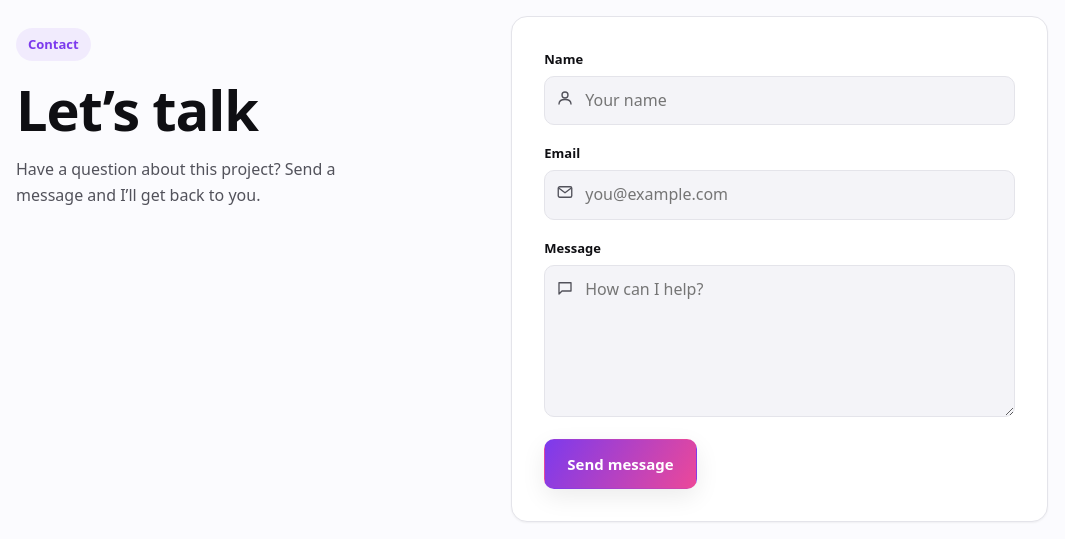
submits successfully and shows a success message with valid input
This screenshot has width=1065, height=539.
Step 1. Type "Aftab" into the field labelled "Name" → (780,101), box [544, 76, 1015, 125]
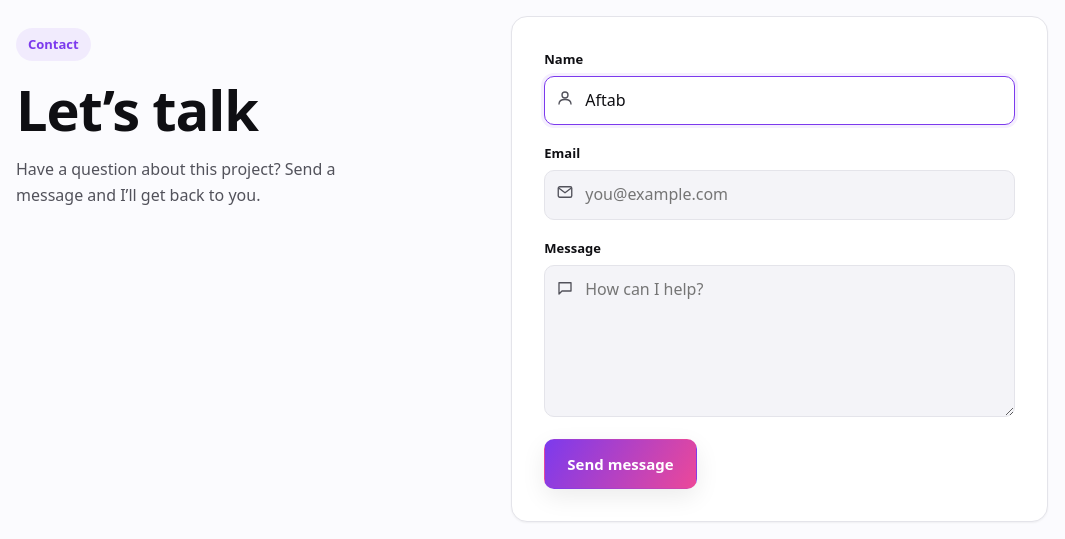
Step 2. Type "aftab@example.com" into the field labelled "Email" → (780,195), box [544, 170, 1015, 220]
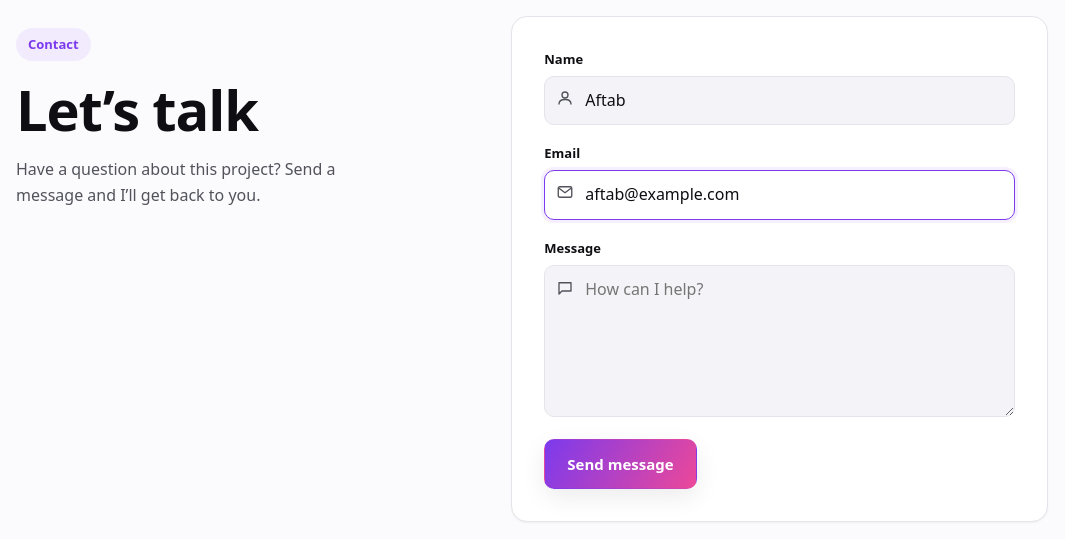
Step 3. Type "Hello there!" into the text box labelled "Message" → (780,341), box [544, 265, 1015, 417]
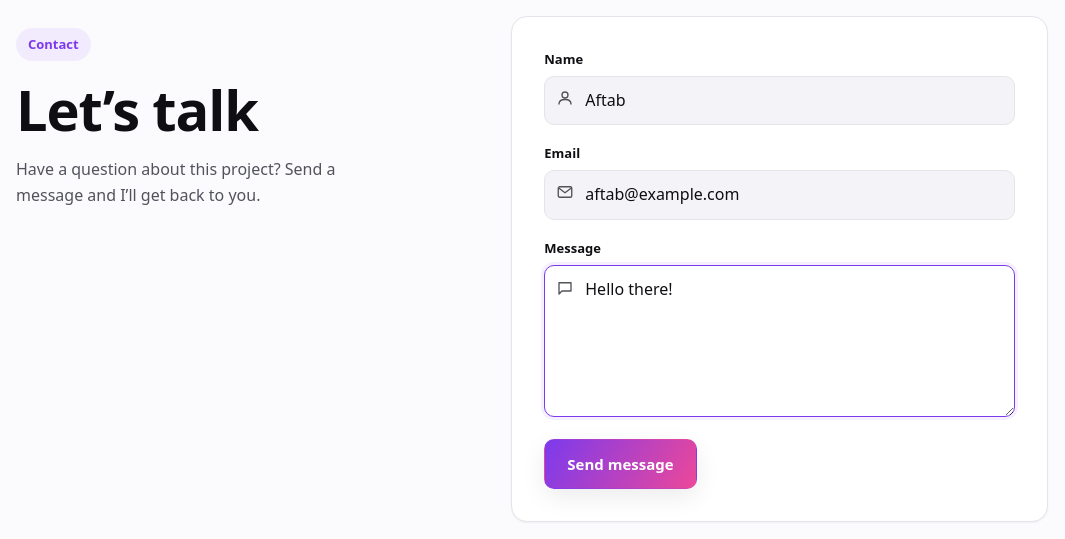
Step 4. Click the button "Send message" → (620,464), box [544, 438, 697, 488]
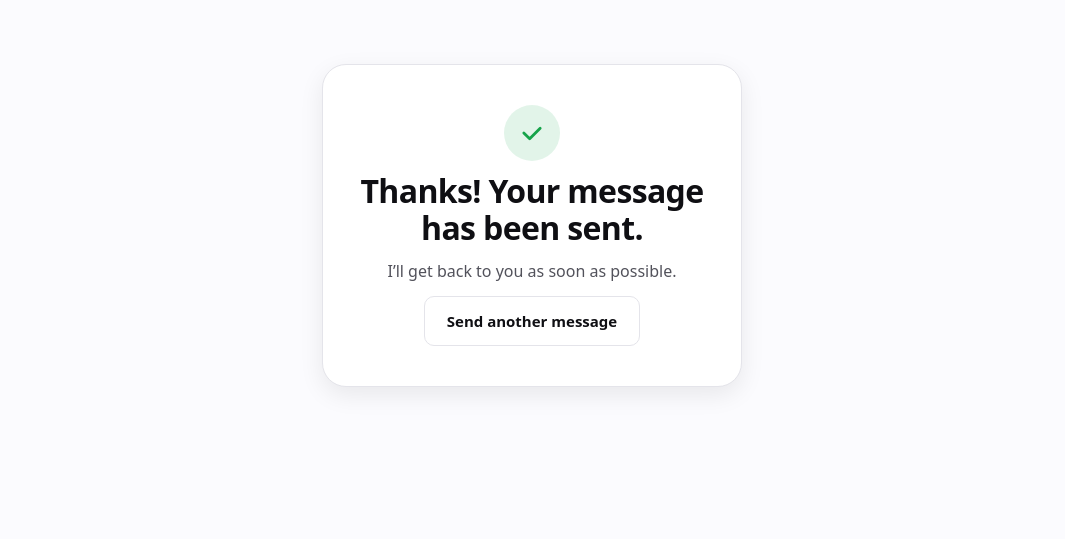
Expected: the heading "Thanks! Your message has been sent." is shown, [355, 173, 709, 247]
